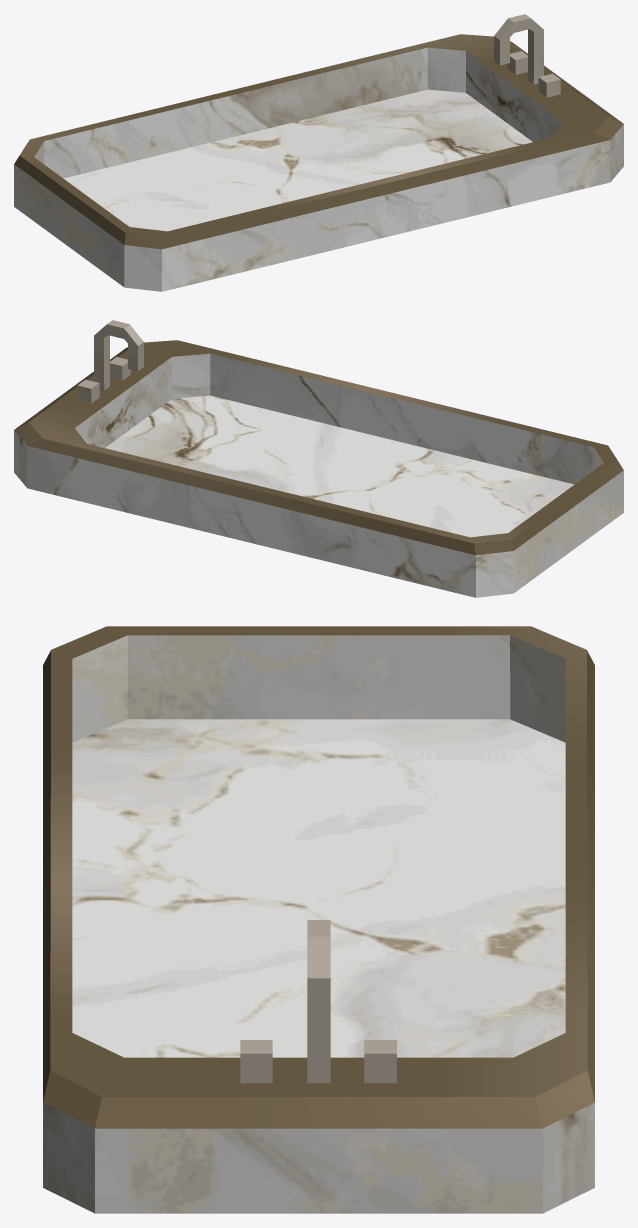
The model's file is Bathtub.fbx.
3 renders of one model, top to bottom at view 1: azimuth 30°, elevation 25°; view 2: azimuth 150°, elevation 25°; view 3: azimuth 270°, elevation 25°, orthographic. The views are drawn at different scales.
Parts seen in each view (by area): view 1: Cube; view 2: Cube; view 3: Cube.
Boxes of the visible parts, x1,y1,x2,y2 form: Cube: [14, 14, 623, 291]; Cube: [14, 320, 623, 597]; Cube: [43, 626, 594, 1213].
Size of the model in its own units: 1489 by 340 by 714.
Materials: 1 (1 with a texture image).
